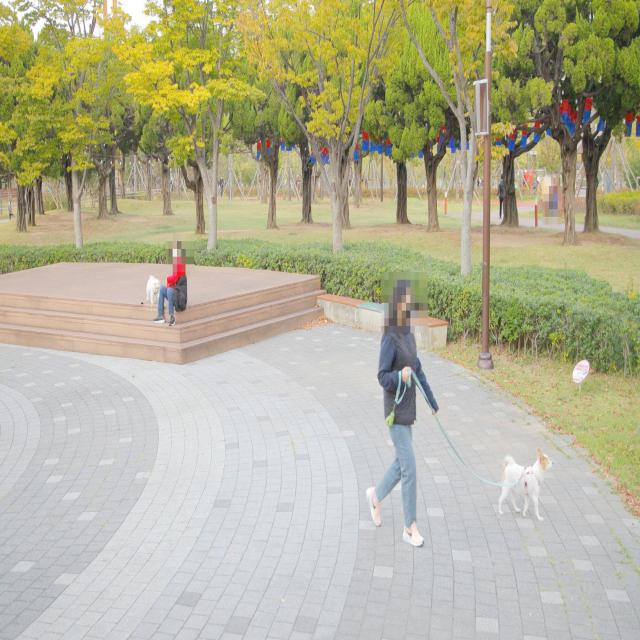Leashed_Dog: (399, 366, 553, 523), (146, 273, 165, 321)
